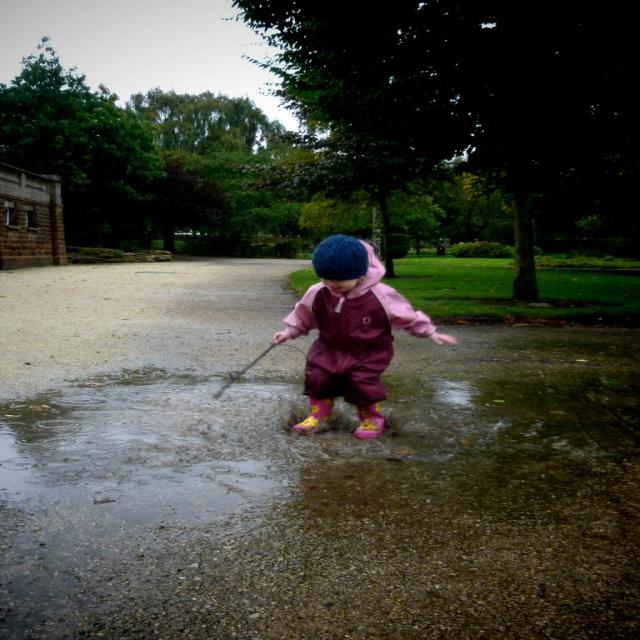Person: (272, 233, 458, 439)
